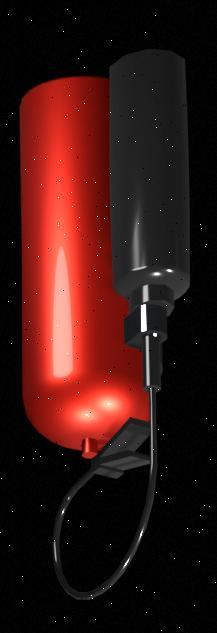Fire Extinguisher: (8, 45, 214, 608)
